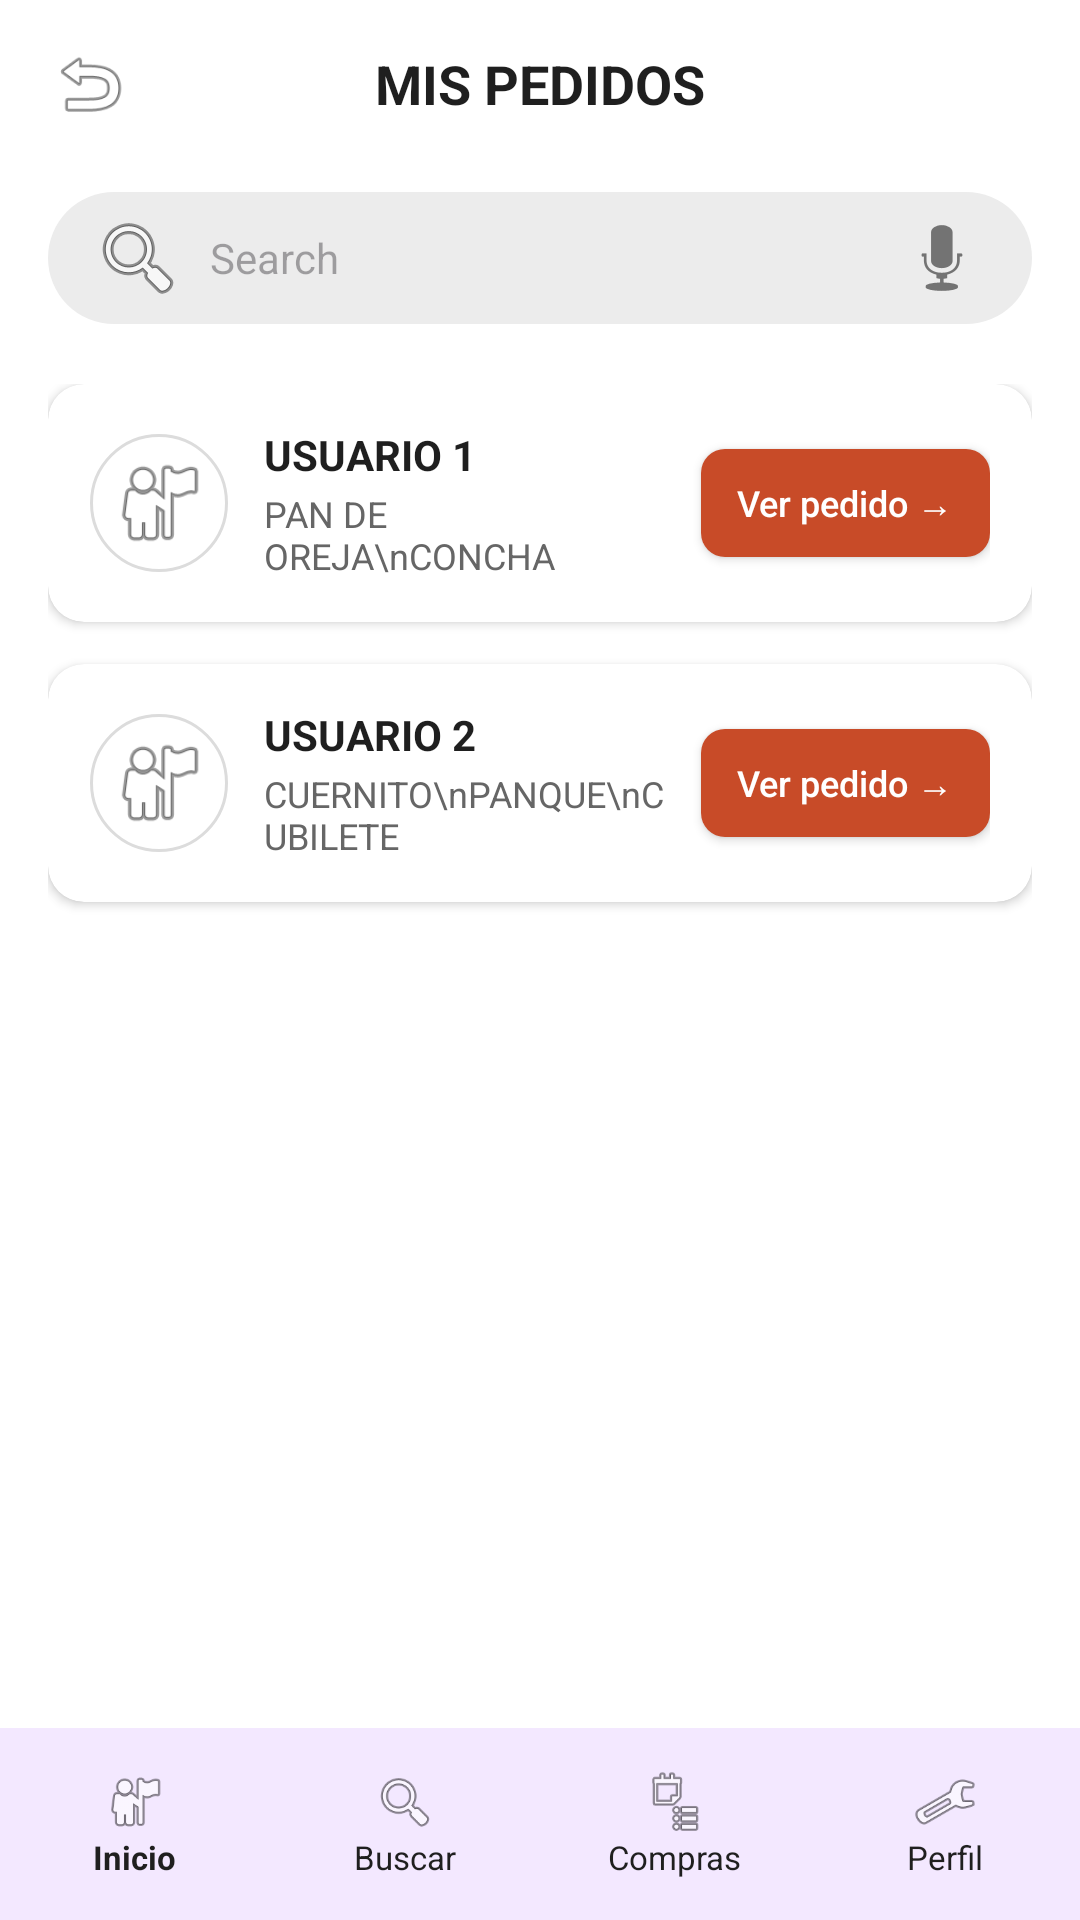

Locate icon controls on the screen. Image size 1080 × 1920, boxes as {"x1": x1, "y1": y1, "x2": x2, "y2": y2}.
agenda: {"x1": 652, "y1": 1772, "x2": 699, "y2": 1831}
manage: {"x1": 915, "y1": 1779, "x2": 975, "y2": 1825}
myplaces: {"x1": 90, "y1": 434, "x2": 228, "y2": 572}, {"x1": 90, "y1": 714, "x2": 228, "y2": 852}, {"x1": 111, "y1": 1777, "x2": 161, "y2": 1827}
revert: {"x1": 61, "y1": 57, "x2": 122, "y2": 112}
